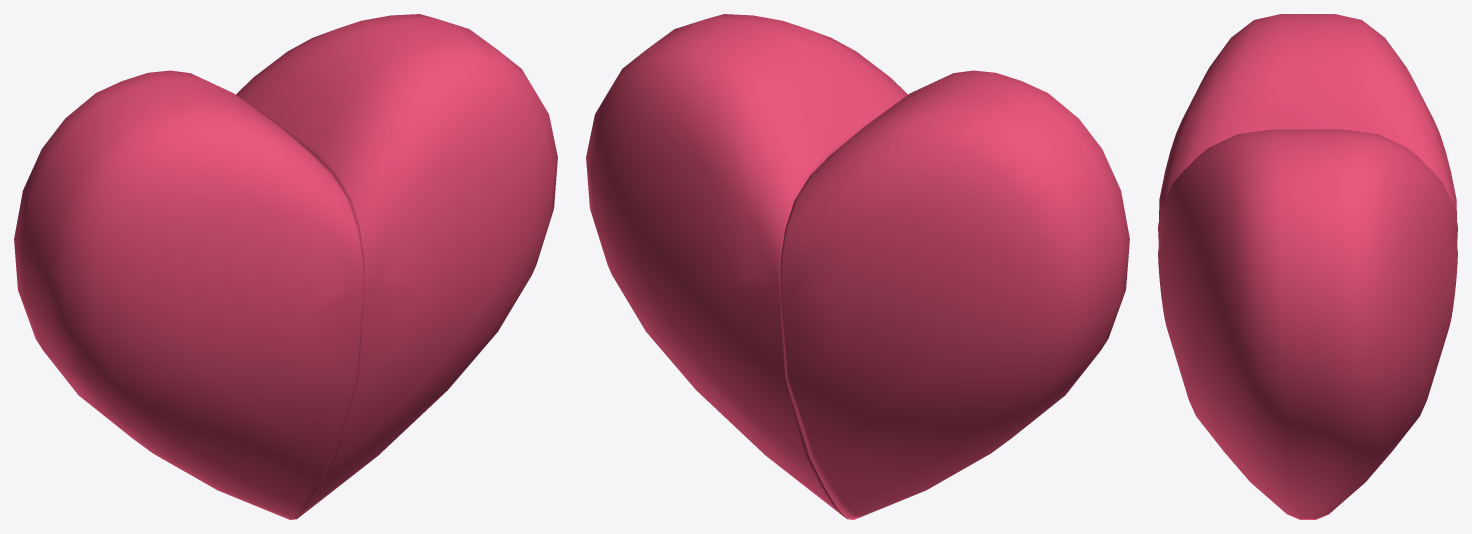
The model's file is SM_Heart_01a.fbx.
3 renders of one model, left to right at view 1: azimuth 30°, elevation 25°; view 2: azimuth 150°, elevation 25°; view 3: azimuth 270°, elevation 25°, orthographic. The views are drawn at different scales.
Visible parts, largest first — view 1: Heart_02, Heart_01; view 2: Heart_02, Heart_01; view 3: Heart_01, Heart_02.
Part boxes in pixels (<box>): Heart_02: <box>14,70,363,519</box>; Heart_01: <box>236,14,557,518</box>; Heart_02: <box>780,70,1129,519</box>; Heart_01: <box>586,14,907,518</box>; Heart_01: <box>1158,129,1457,519</box>; Heart_02: <box>1158,14,1457,238</box>.
Bounding box in the file's own units: 26.37 × 22.7 × 14.22.
